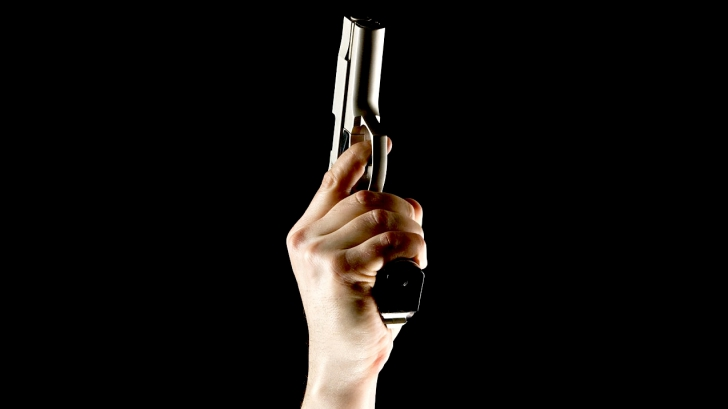gun: (319, 11, 432, 325)
